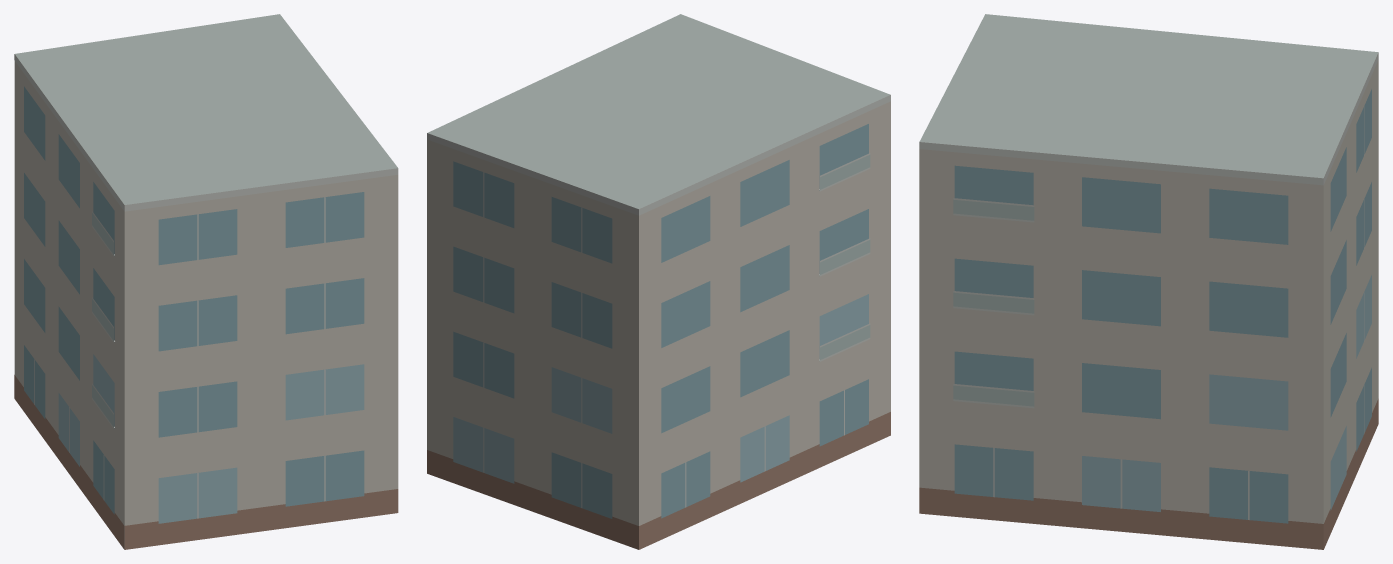
Rendered from survey-upis-32663576.glb.
The picture shows the model from 3 angles, left to right: view 1: azimuth 30°, elevation 25°; view 2: azimuth 150°, elevation 25°; view 3: azimuth 270°, elevation 25°; orthographic projection. The views are drawn at different scales.
Visible parts, largest first — view 1: survey-upis-32663576.tmp; view 2: survey-upis-32663576.tmp; view 3: survey-upis-32663576.tmp.
Part boxes in pixels (x1,y1,x2,y2): survey-upis-32663576.tmp: (14,14,398,549); survey-upis-32663576.tmp: (427,14,890,549); survey-upis-32663576.tmp: (919,14,1378,549).
Bounding box in the file's own units: 12.15 × 12.8 × 14.35.
